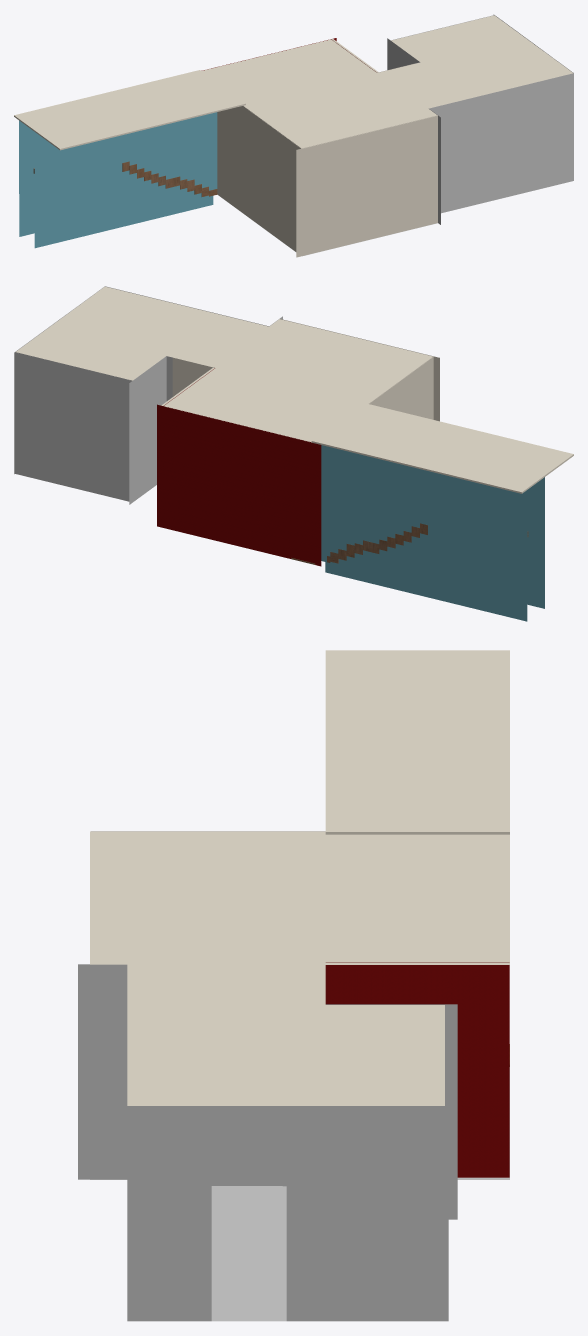
File: GrupoEstrutura.fbx
3 renders of one model, top to bottom at view 1: azimuth 30°, elevation 25°; view 2: azimuth 150°, elevation 25°; view 3: azimuth 270°, elevation 25°, orthographic. The views are drawn at different scales.
Visible parts, largest first — view 1: Teto, ParedeESCADA, Parede02_MESH, ParedeCozinha01_MESH, ParedeSalaEscada_MESH, Esacada, ParedeCozinha04_MESH; view 2: Teto, ParedeESCADA, ParedeVermelhaSala_MESH, ParedeCozinha03_MESH, ParedeCozinha04_MESH, ParedeSalaEscada_MESH, Esacada, ParedinhaPortadoBanheiro_MESH, Parede02_MESH; view 3: Teto, ParedeCozinha02_MESH1, ParedeOrnamentadaSala_MESH, ParedeCozinha01_MESH, Chão, ParedeCozinha04_MESH.
Boxes of the visible parts, <box> form: Teto: <box>14,15,573,150</box>; ParedeESCADA: <box>19,113,213,248</box>; Parede02_MESH: <box>296,115,437,257</box>; ParedeCozinha01_MESH: <box>429,73,573,224</box>; ParedeSalaEscada_MESH: <box>213,106,300,251</box>; Esacada: <box>122,161,217,196</box>; ParedeCozinha04_MESH: <box>387,38,420,69</box>; Teto: <box>16,286,573,493</box>; ParedeESCADA: <box>325,446,544,621</box>; ParedeVermelhaSala_MESH: <box>157,404,321,566</box>; ParedeCozinha03_MESH: <box>15,352,132,501</box>; ParedeCozinha04_MESH: <box>129,356,172,504</box>; ParedeSalaEscada_MESH: <box>321,356,433,562</box>; Esacada: <box>291,523,427,564</box>; ParedinhaPortadoBanheiro_MESH: <box>172,357,208,396</box>; Parede02_MESH: <box>280,319,439,421</box>; Teto: <box>90,650,509,1105</box>; ParedeCozinha02_MESH1: <box>127,1106,448,1321</box>; ParedeOrnamentadaSala_MESH: <box>325,962,509,1177</box>; ParedeCozinha01_MESH: <box>78,964,127,1179</box>; Chão: <box>90,1067,509,1321</box>; ParedeCozinha04_MESH: <box>325,1004,457,1219</box>.
Size of the model in its own units: 144 by 34.99 by 58.
